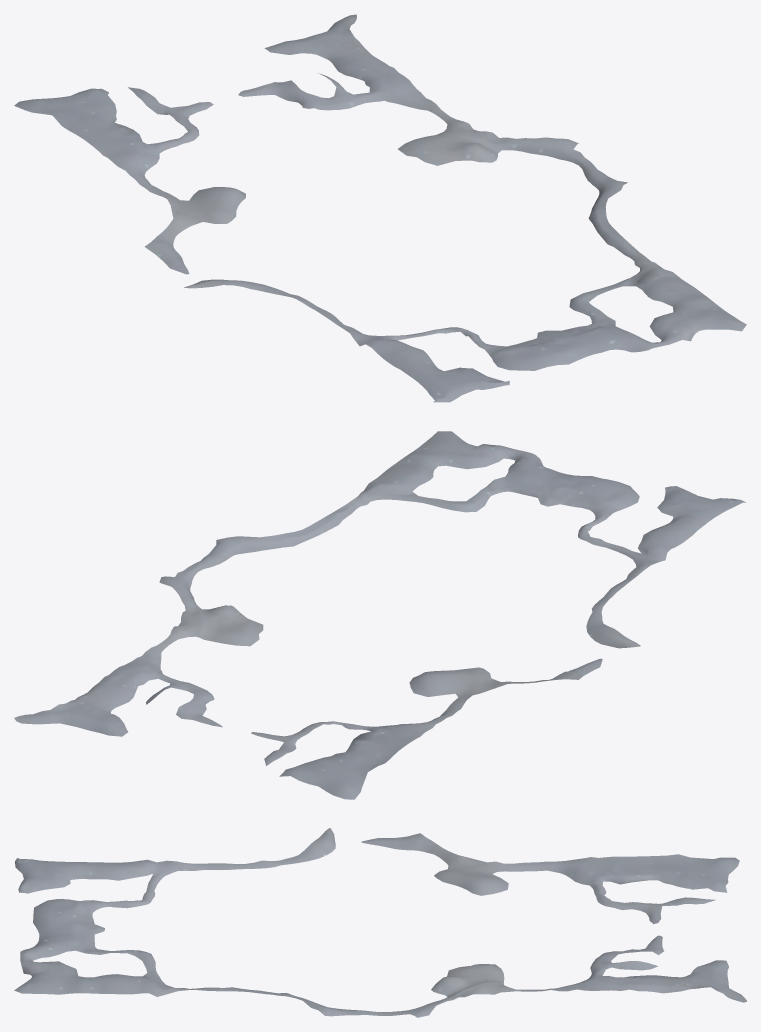
The model's file is pref_sm_beach_winter_centersnow_lv3.fbx.
3 renders of one model, top to bottom at view 1: azimuth 30°, elevation 25°; view 2: azimuth 150°, elevation 25°; view 3: azimuth 270°, elevation 25°, orthographic. The views are drawn at different scales.
Parts seen in each view (by area): view 1: pref_sm_beach_winter_centersnow_lv3; view 2: pref_sm_beach_winter_centersnow_lv3; view 3: pref_sm_beach_winter_centersnow_lv3.
Boxes of the visible parts, <box> form: pref_sm_beach_winter_centersnow_lv3: <box>14,14,746,402</box>; pref_sm_beach_winter_centersnow_lv3: <box>14,431,745,799</box>; pref_sm_beach_winter_centersnow_lv3: <box>14,828,746,1017</box>.
Bounding box in the file's own units: 26.22 × 0.7697 × 42.94.
